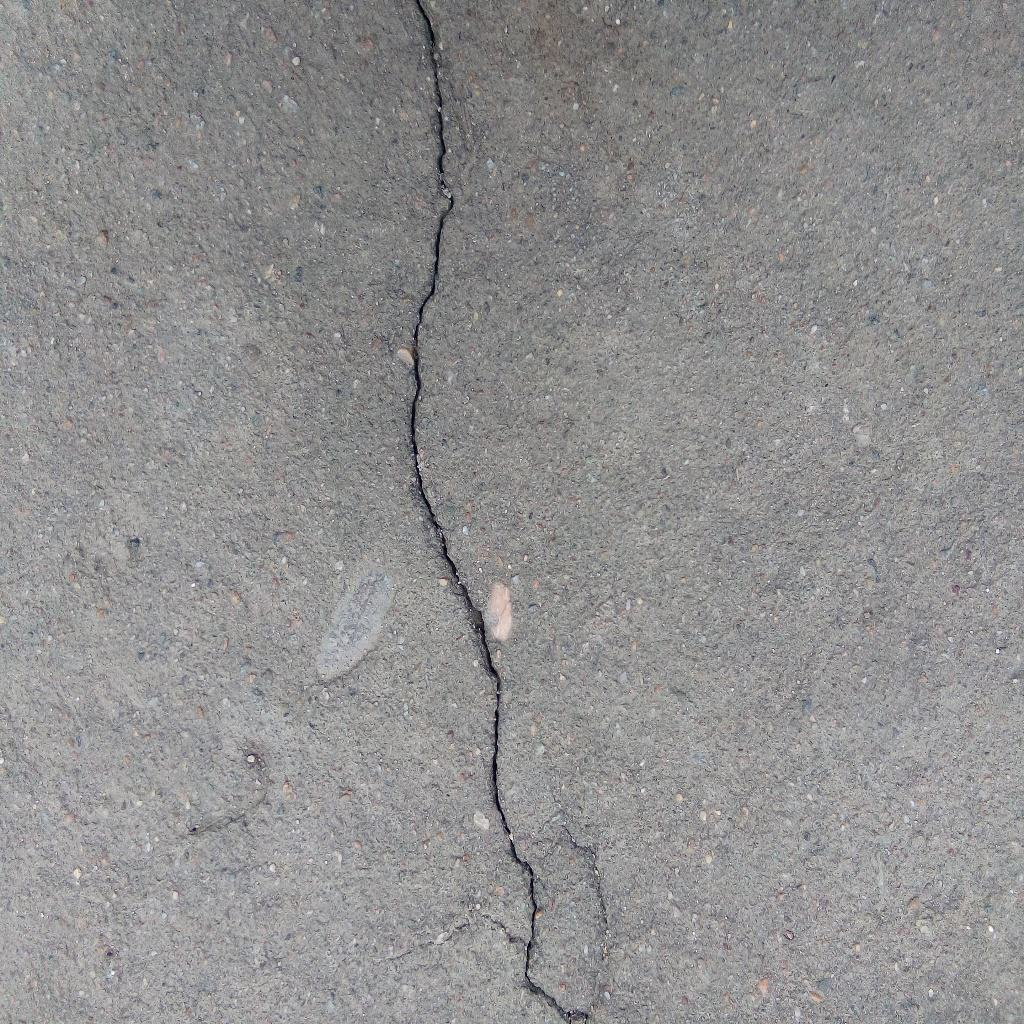Crack: (407, 1, 594, 1024)
